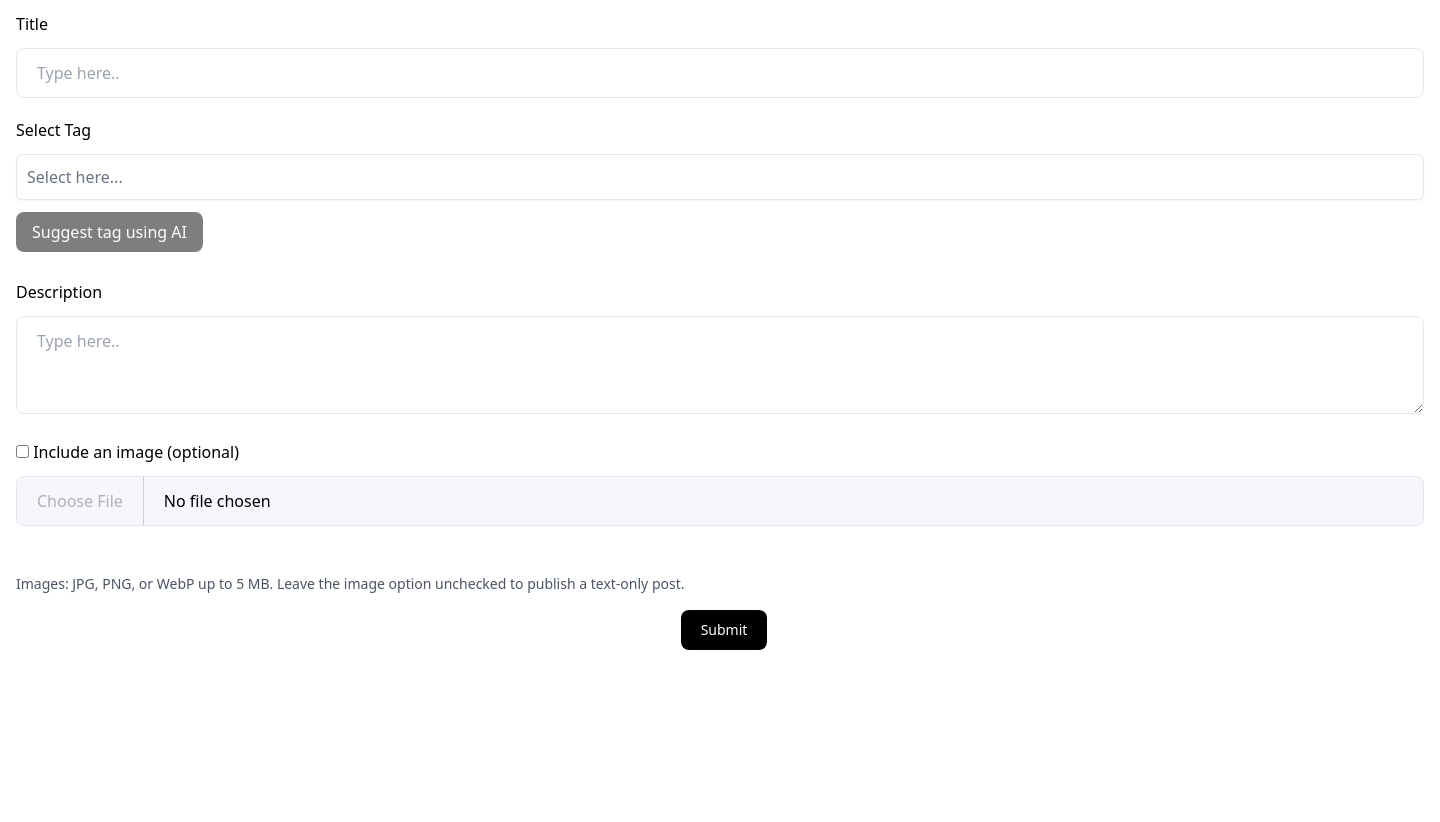
Test: server rejection stays on form and shows the error
Type "Cricket" into the field. click: (720, 73)
box: [16,48,1424,98]
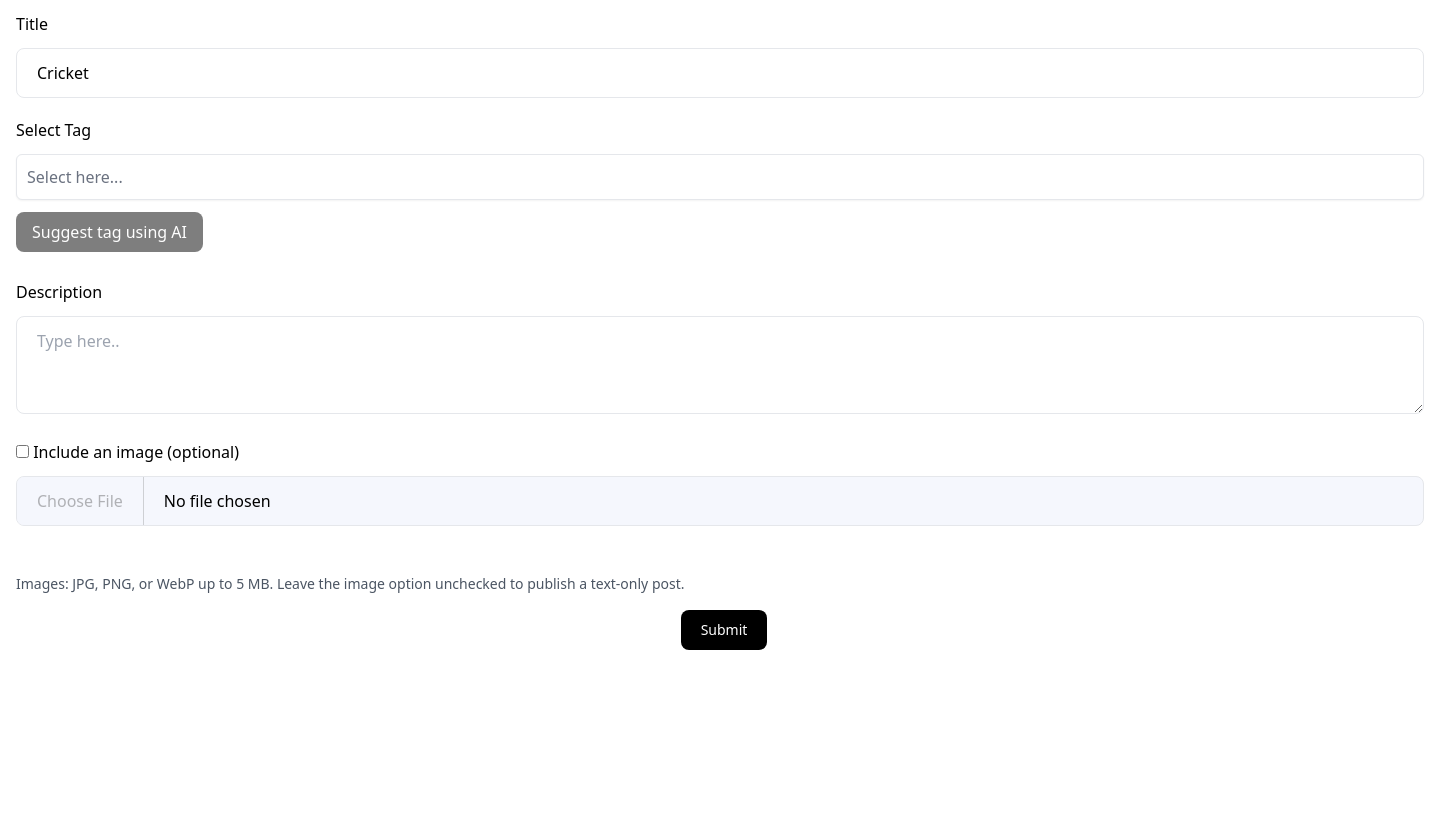
Type "The cricket team won the final match." into the text box. click: (720, 365)
box: [16,316,1424,414]
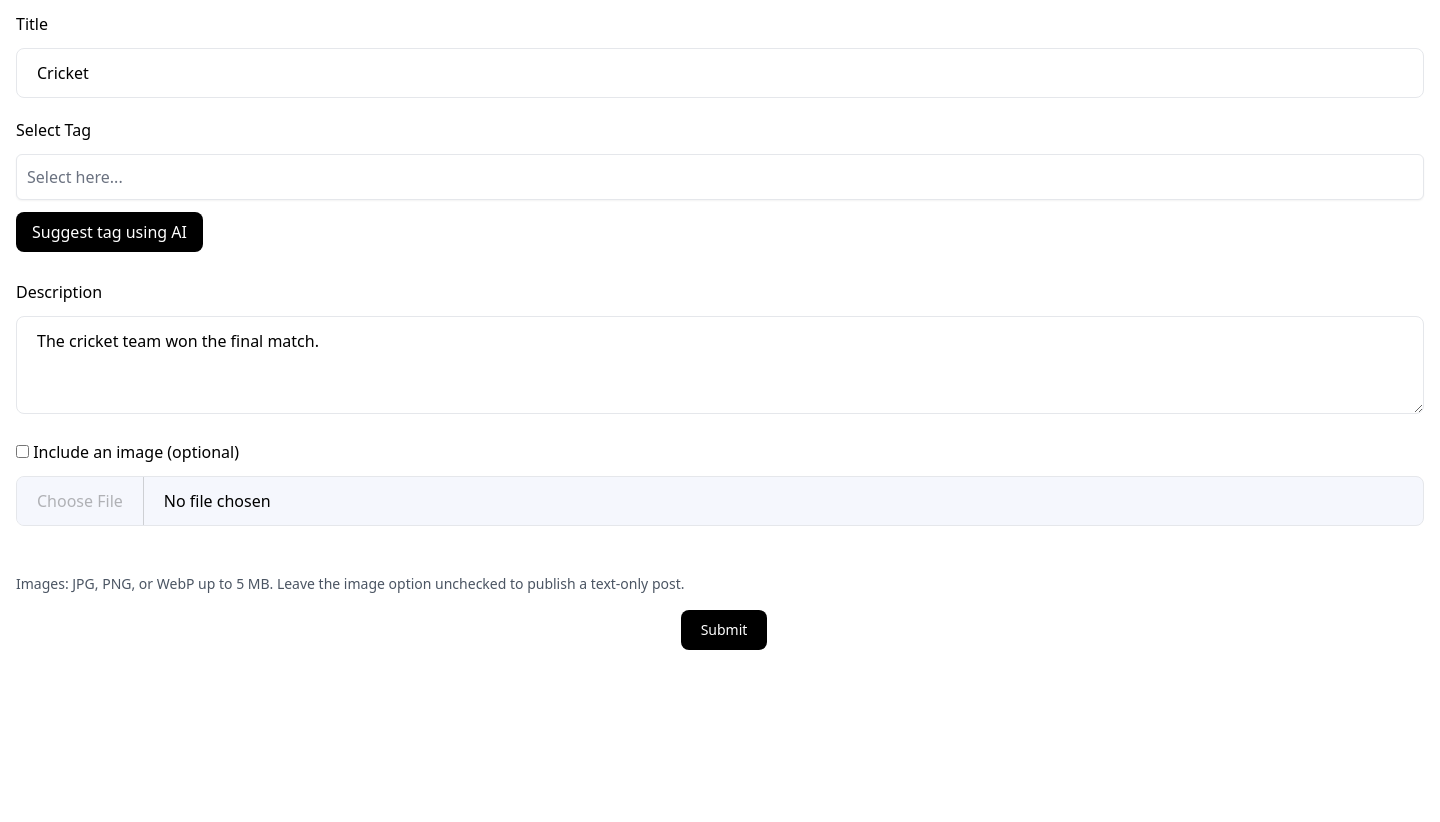
Select "Sports" in the dropdown. click: (720, 177)
box: [16,154,1424,200]
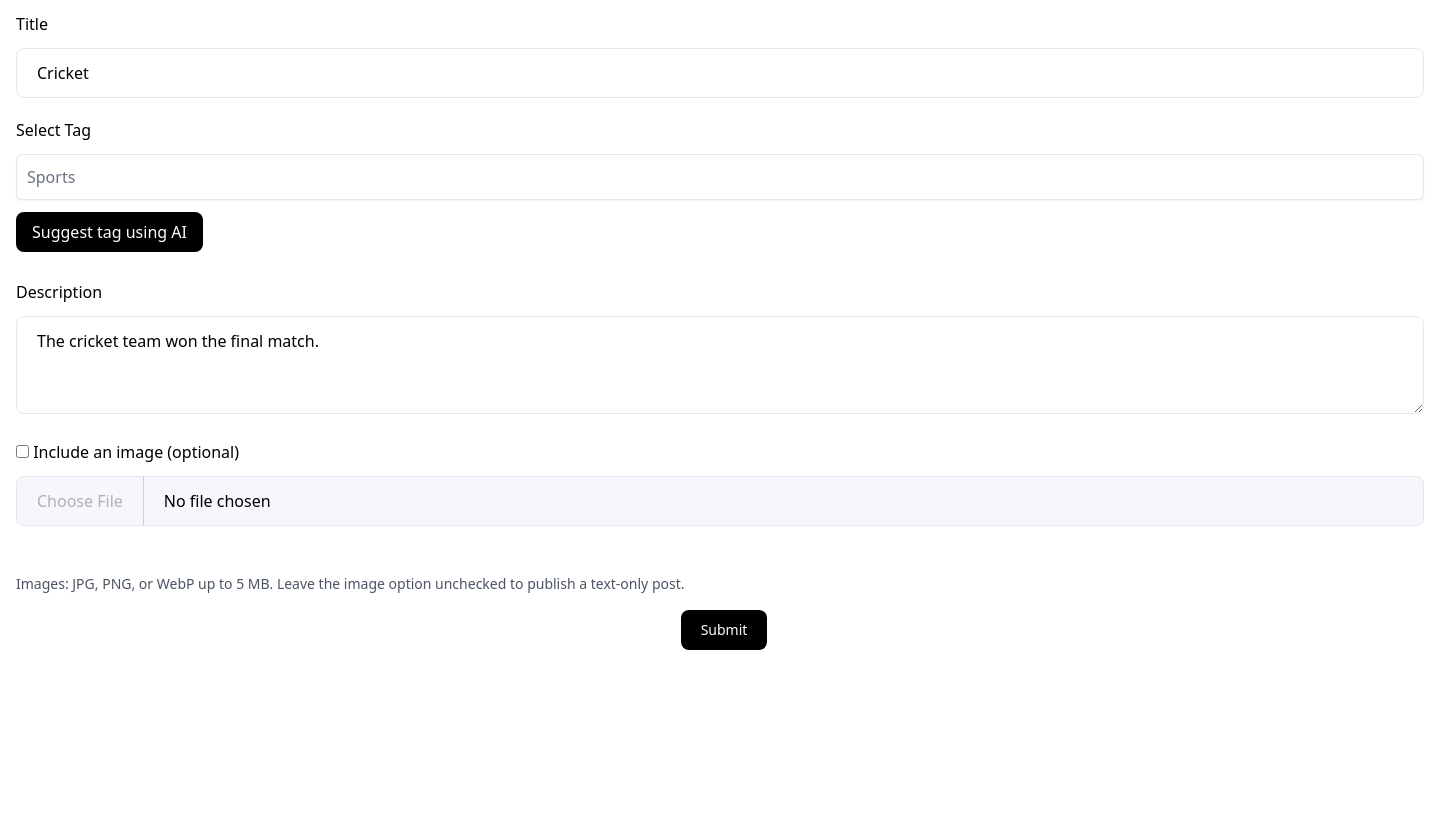
Click the button "Submit". click: (724, 630)
box: [681,610,767,650]
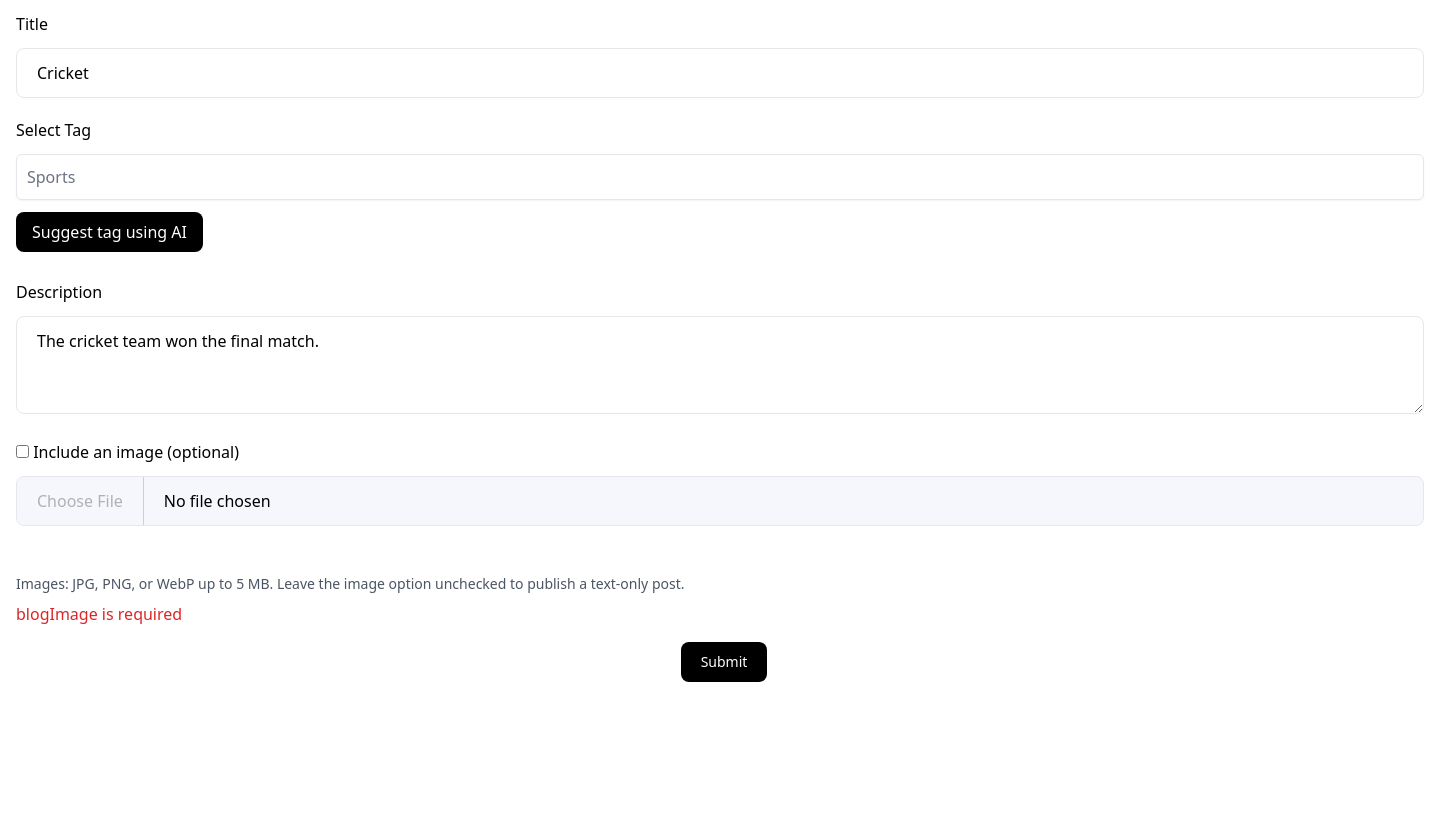
Expected: the button "Submit" is enabled, [681,642,767,682]
Now the message reads "blogImage is required", box [16,603,182,625]
